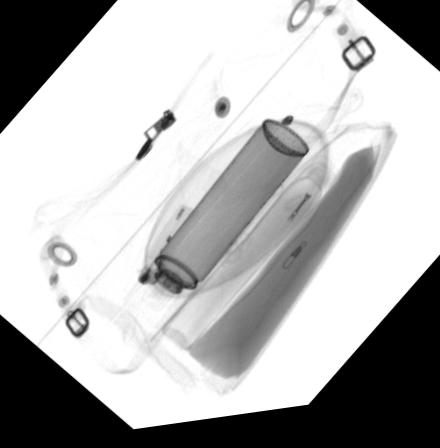Lighter: (135, 208, 200, 291)
Sprayer: (112, 127, 310, 347)
